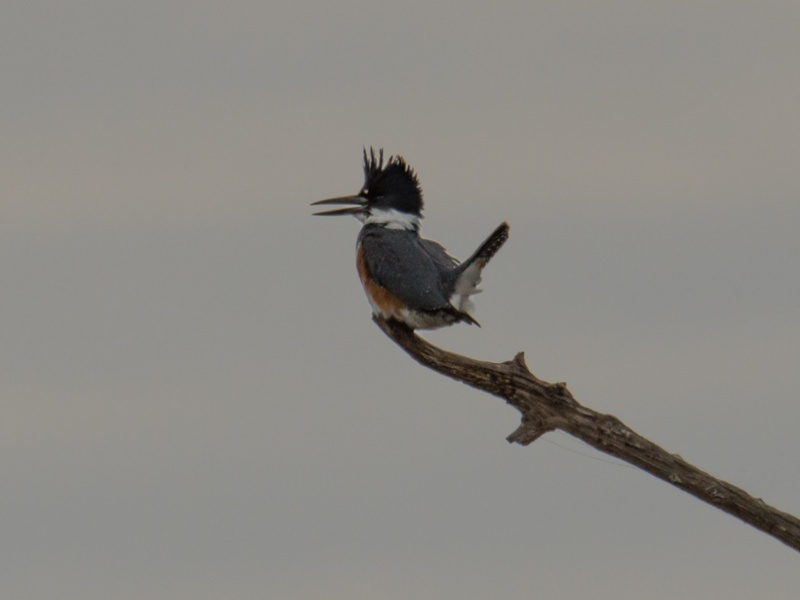kingfisher: (308, 144, 512, 330)
